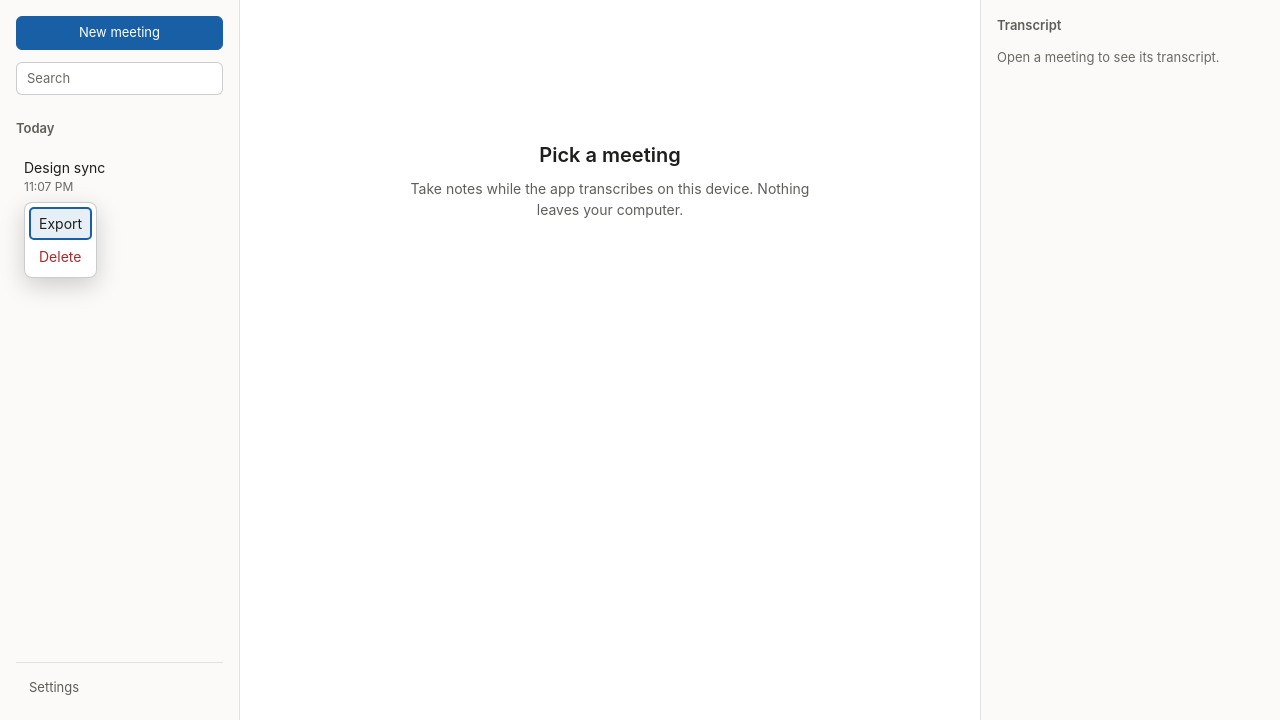
Test: App › meeting menu › keeps the meeting when you cancel the delete
Click the menu item "Delete" at (61, 256), box [29, 240, 92, 272]
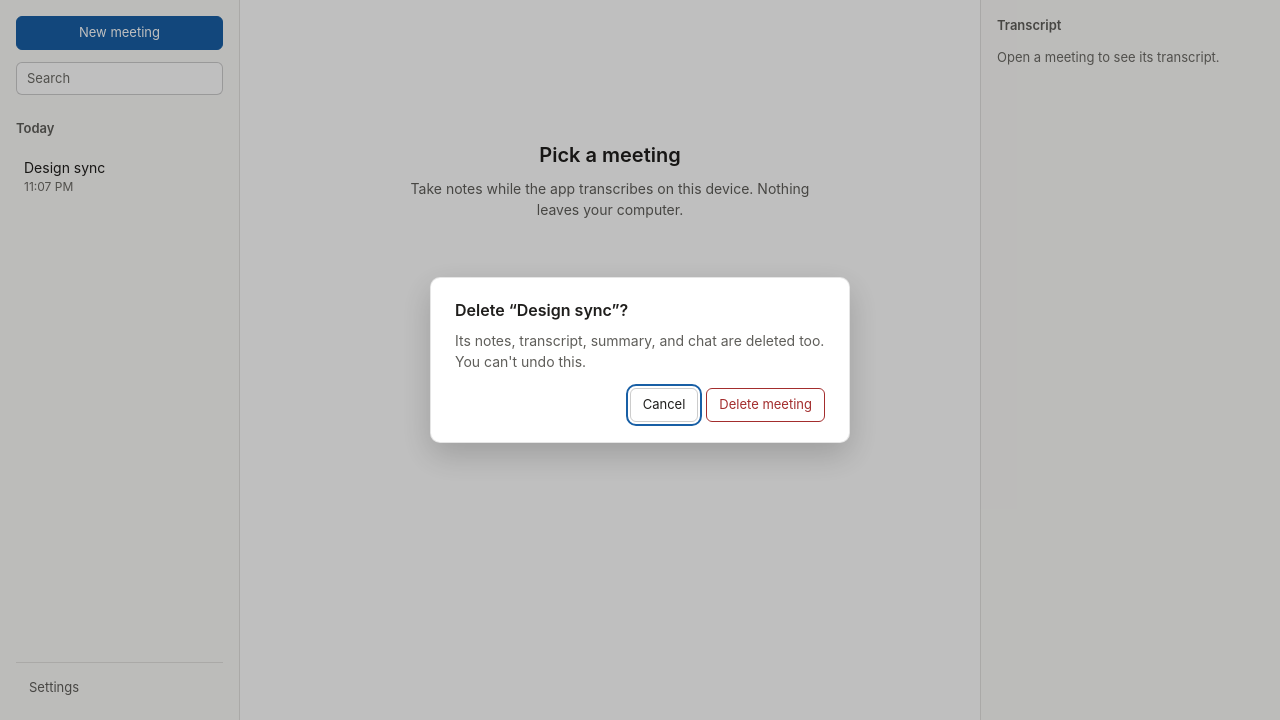
Click the button "Cancel" at (664, 405), box [630, 388, 698, 422]
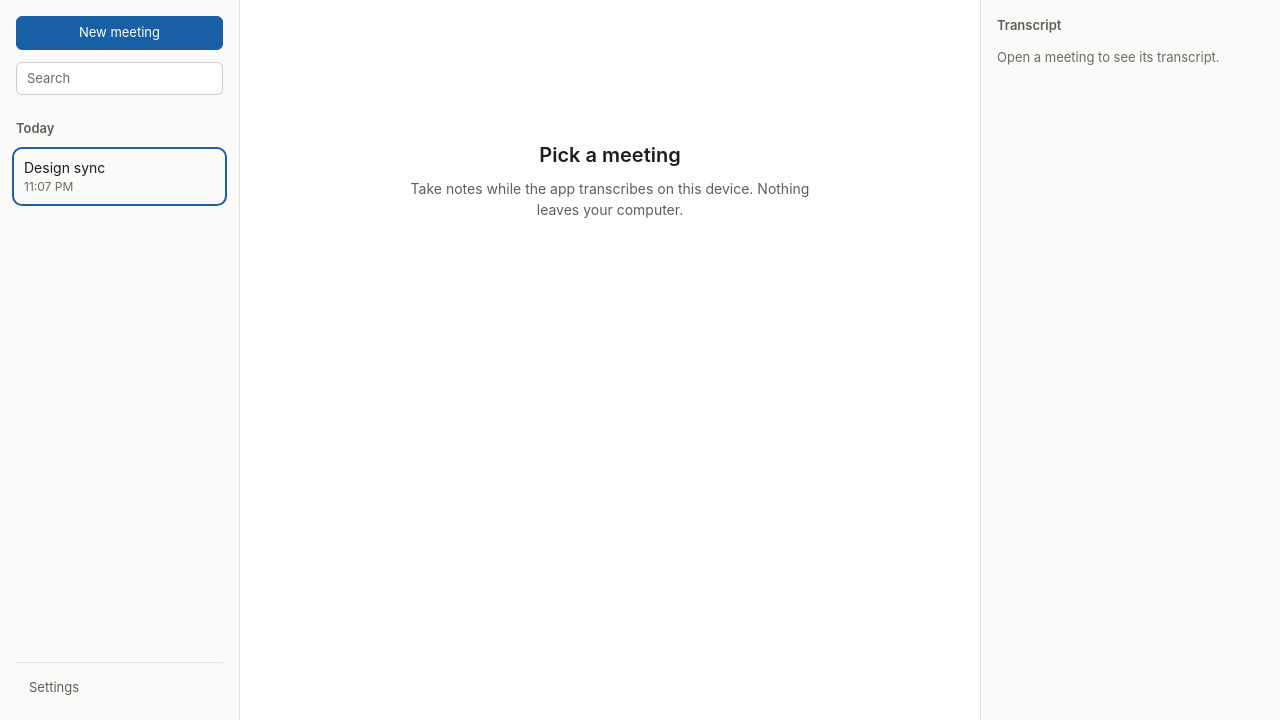
Expected: the dialog is gone
